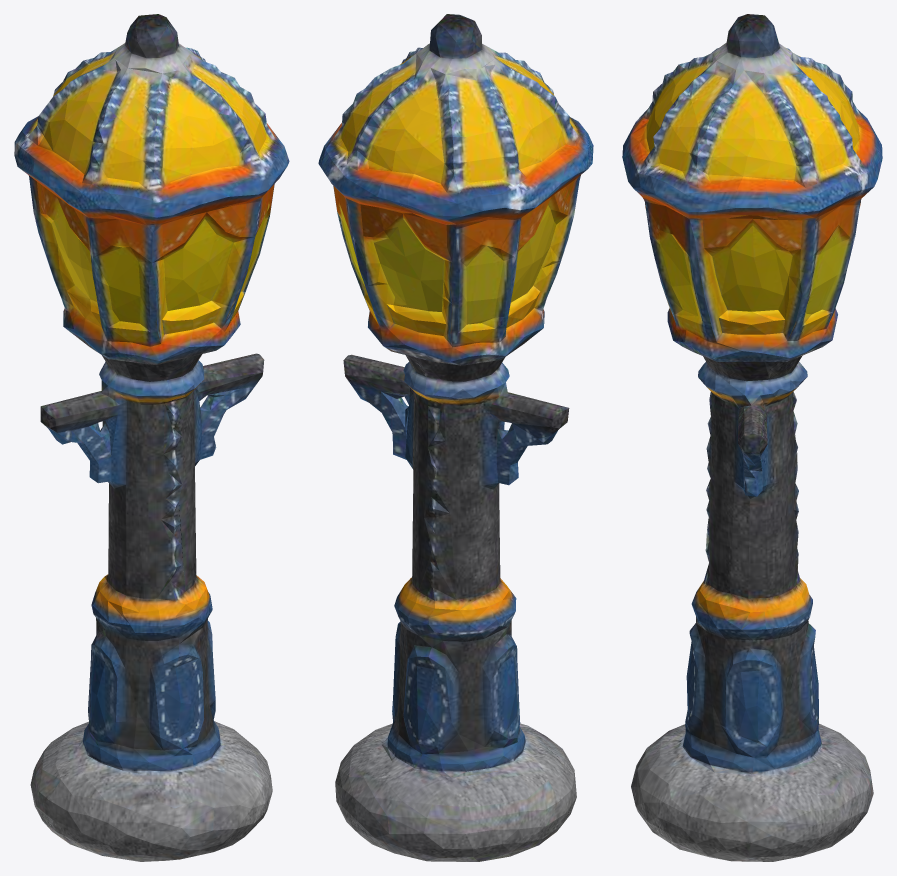
The model's file is street_lantern_whimsical_lod0.glb.
3 views of the same model, side by side, from view 1: azimuth 30°, elevation 25°; view 2: azimuth 150°, elevation 25°; view 3: azimuth 270°, elevation 25° (orthographic).
Visible parts, largest first — view 1: street_lantern_whimsical_lod0; view 2: street_lantern_whimsical_lod0; view 3: street_lantern_whimsical_lod0.
Boxes of the visible parts, left/top/right/bottom form: street_lantern_whimsical_lod0: left=14, top=14, right=289, bottom=861; street_lantern_whimsical_lod0: left=318, top=14, right=593, bottom=861; street_lantern_whimsical_lod0: left=622, top=14, right=882, bottom=861.
Size of the model in its own units: 0.585 by 2 by 0.5867.
Materials: 1 (1 with a texture image).
